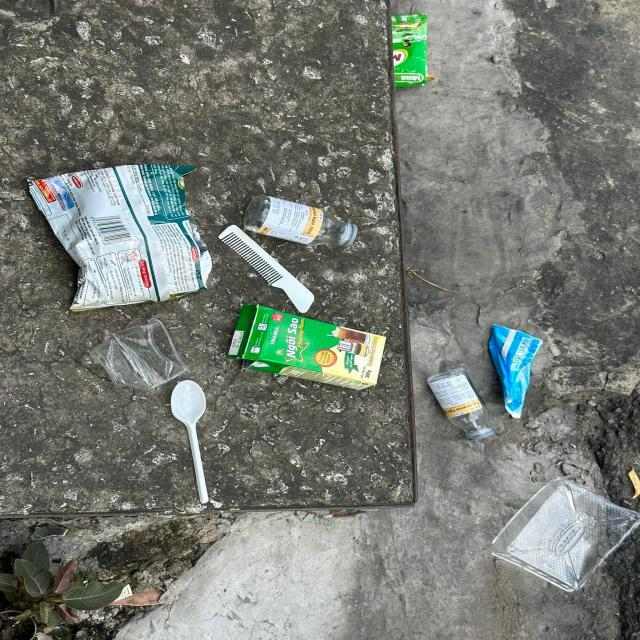bottle: (242, 196, 358, 247), (426, 366, 496, 442)
cardboard box: (228, 303, 387, 391)
milk box: (390, 14, 436, 88)
packet: (488, 324, 543, 418)
plastic glass: (90, 318, 191, 389)
plastic holder: (491, 478, 640, 593)
plastic utensil: (171, 380, 208, 503)
snack package: (26, 164, 214, 314)
